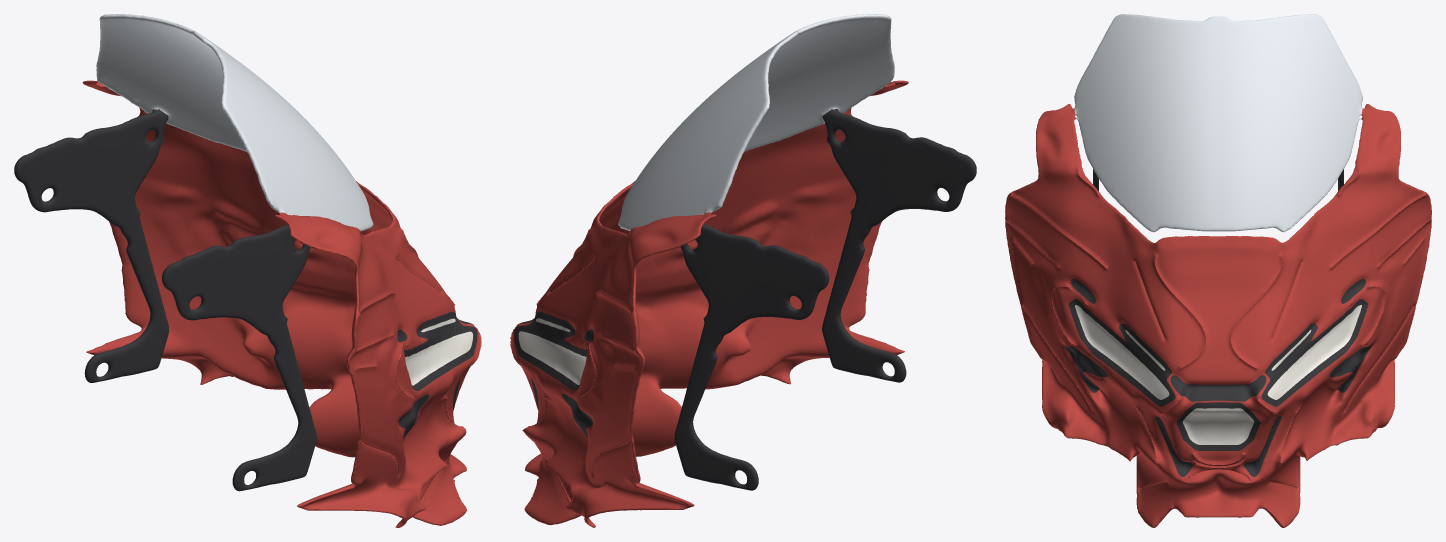
The model's file is naked_3.glb.
3 views of the same model, side by side, from view 1: azimuth 30°, elevation 25°; view 2: azimuth 150°, elevation 25°; view 3: azimuth 270°, elevation 25° (orthographic). The views are drawn at different scales.
Parts seen in each view (by area): view 1: naked_3; view 2: naked_3; view 3: naked_3.
Boxes of the visible parts, bbox=[...] form: naked_3: bbox=[14, 14, 481, 527]; naked_3: bbox=[510, 14, 976, 527]; naked_3: bbox=[1005, 14, 1431, 527].
Size of the model in its own units: 0.3424 by 0.4528 by 0.4168.
